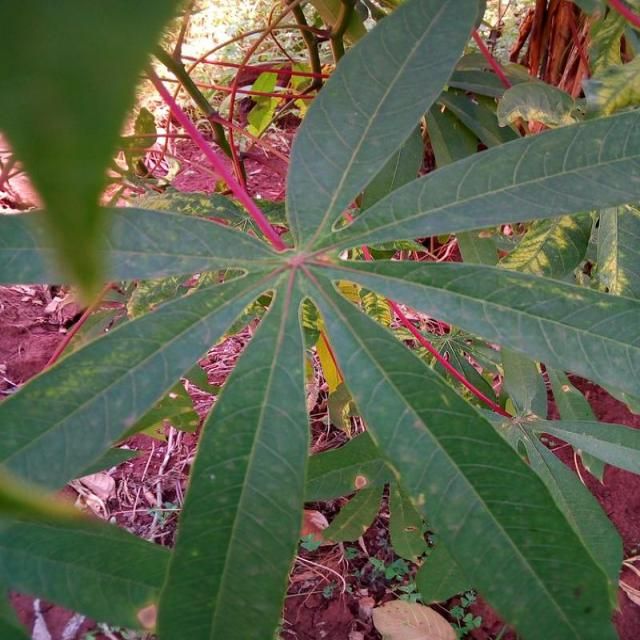cassava leaf: (0, 0, 638, 638), (301, 261, 624, 638), (154, 268, 310, 638), (284, 0, 486, 254)
